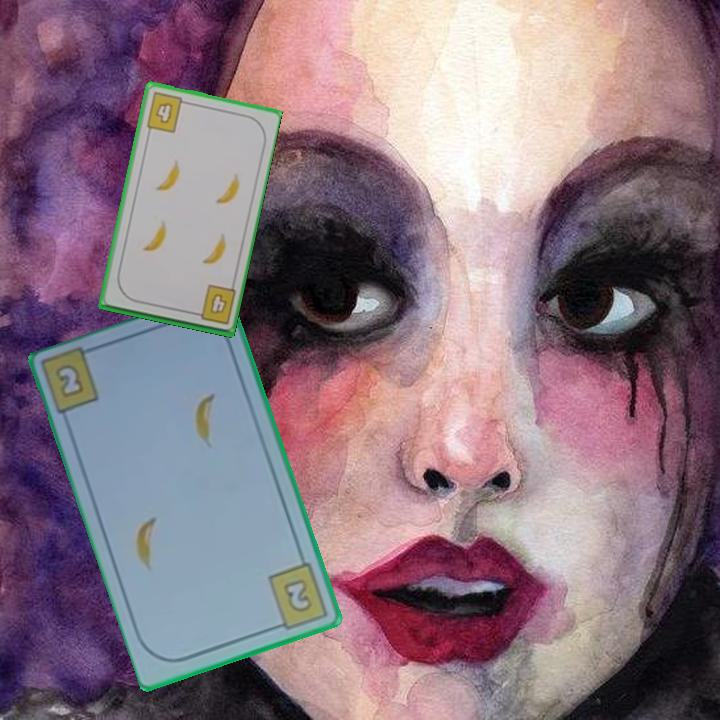2b: (264, 559, 331, 634), (51, 361, 87, 401)
4b: (188, 281, 238, 327), (143, 89, 191, 136)
